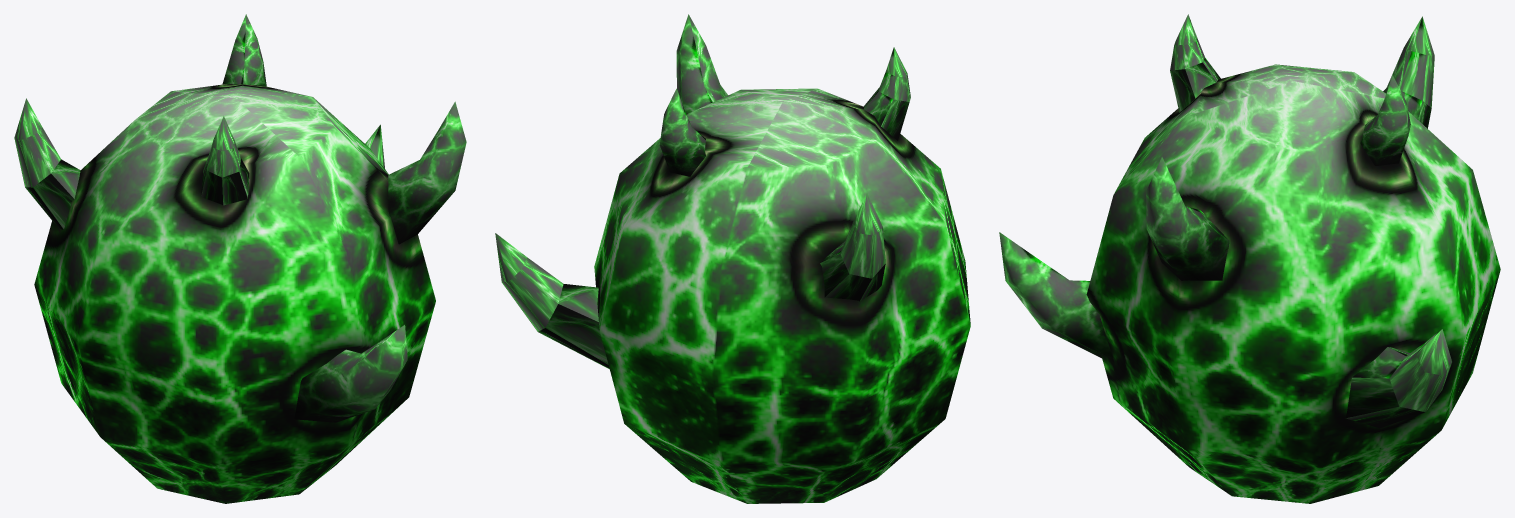
The model's file is dEgg_01.fbx.
3 renders of one model, left to right at view 1: azimuth 30°, elevation 25°; view 2: azimuth 150°, elevation 25°; view 3: azimuth 270°, elevation 25°, orthographic. The views are drawn at different scales.
Parts seen in each view (by area): view 1: dEgg_01; view 2: dEgg_01; view 3: dEgg_01.
Boxes of the visible parts, x1=… form: dEgg_01: x1=14, y1=14, x2=466, y2=503; dEgg_01: x1=495, y1=14, x2=970, y2=503; dEgg_01: x1=999, y1=14, x2=1500, y2=503.
Bounding box in the file's own units: 2.04 × 2.12 × 2.18.
